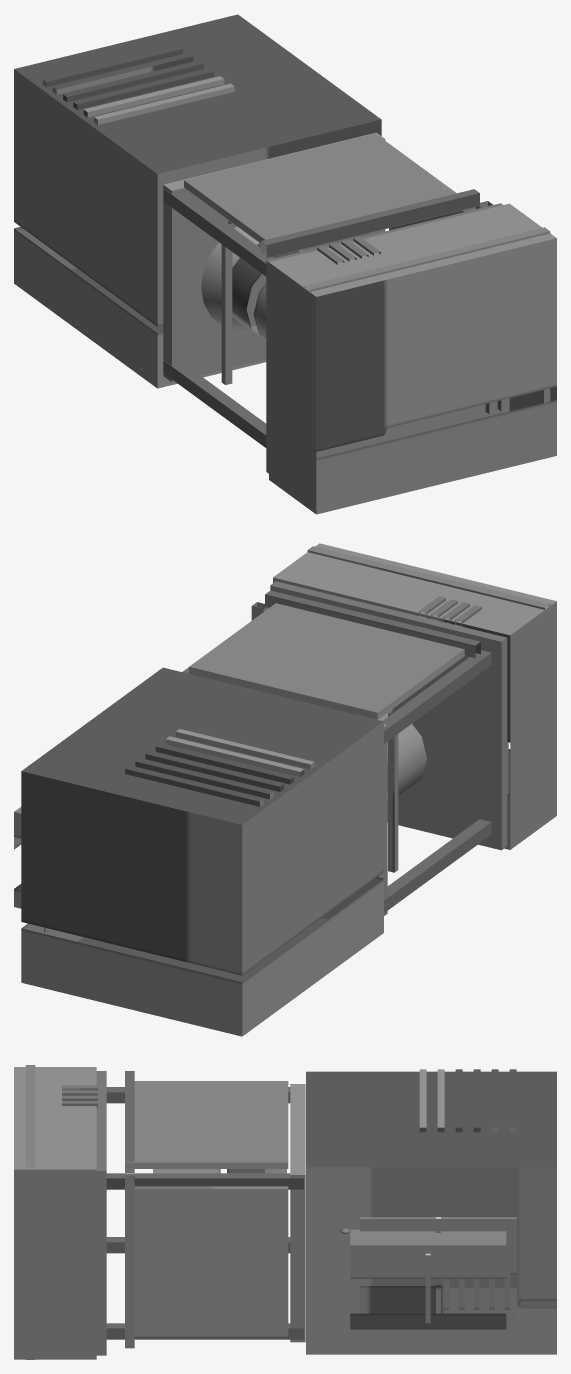
3 renders of one model, top to bottom at view 1: azimuth 30°, elevation 25°; view 2: azimuth 150°, elevation 25°; view 3: azimuth 270°, elevation 25°, orthographic. The views are drawn at different scales.
Bounding box in the file's own units: 0.919 × 0.7125 × 1.81.
